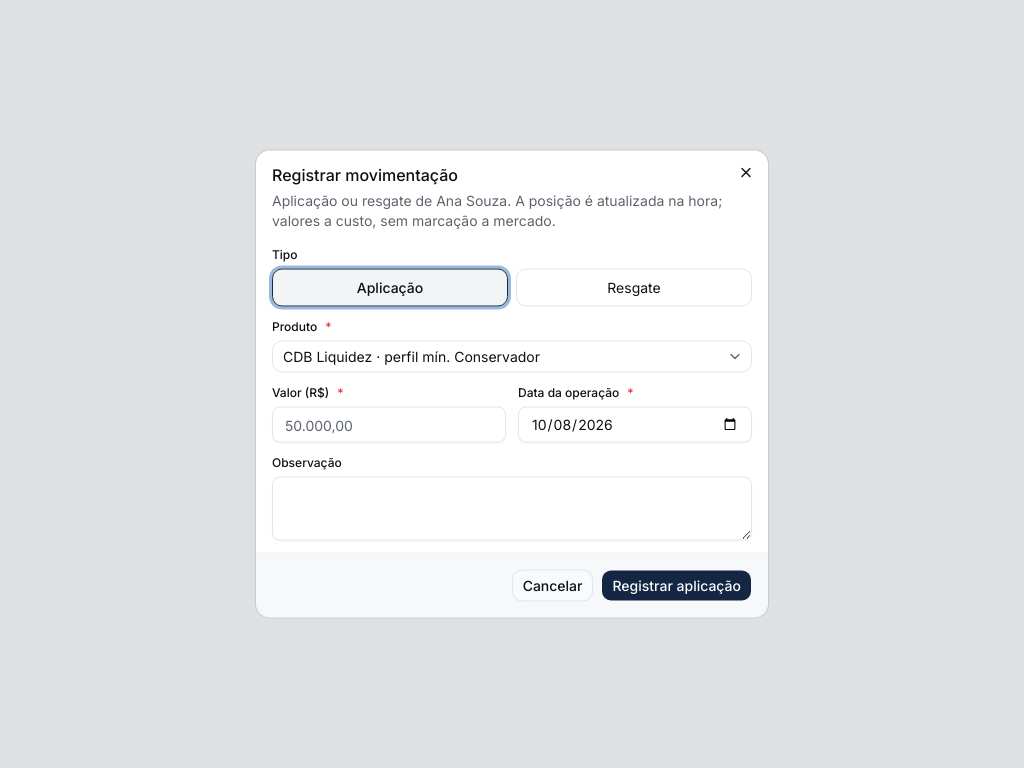
Registrar movimentação › desenquadramento que só a API detecta (ex.: suitability venceu) pede a ciência
Type "100" into the field labelled "Valor (R$) *" at (389, 424), box x1=272 y1=406 x2=506 y2=442
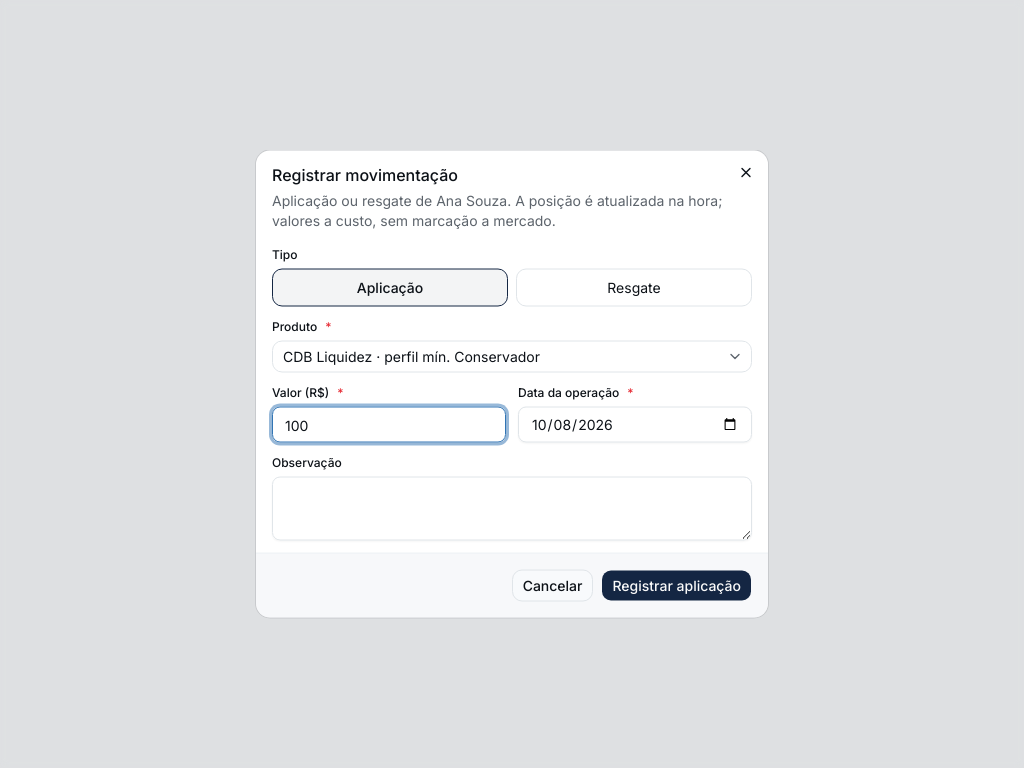
Click the button "Registrar aplicação" at (677, 586), box x1=602 y1=570 x2=752 y2=602
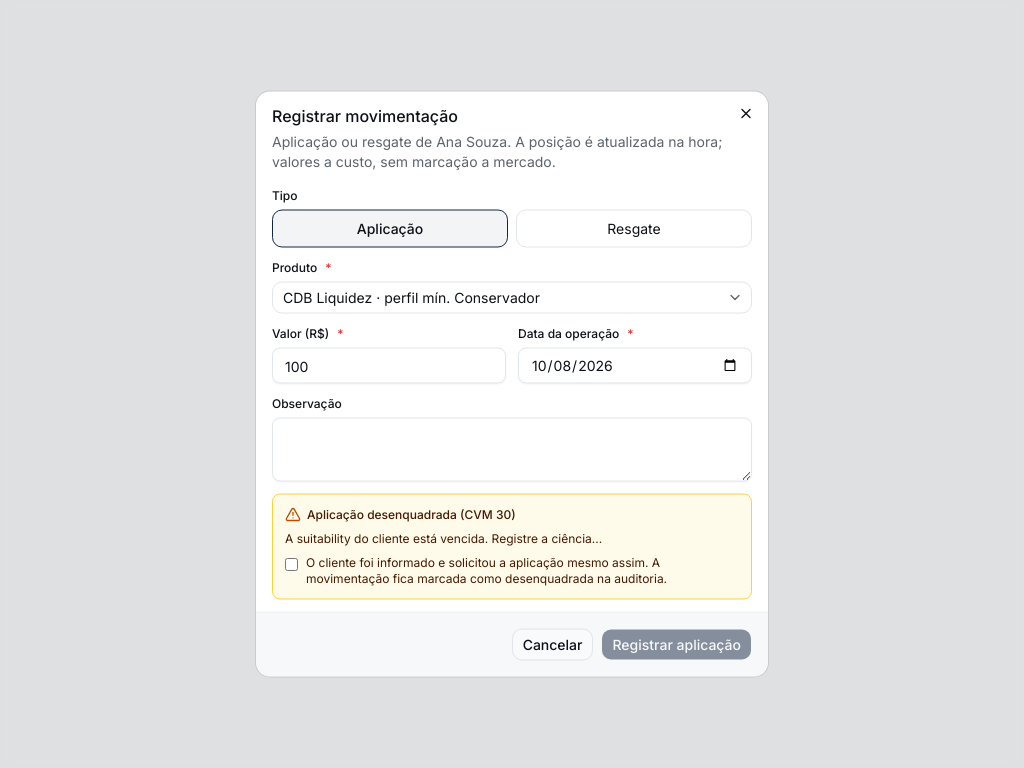
Now the message shows "suitability do cliente está vencida", box x1=285 y1=530 x2=602 y2=546
Now the checkbox is not checked, box x1=285 y1=556 x2=298 y2=572
